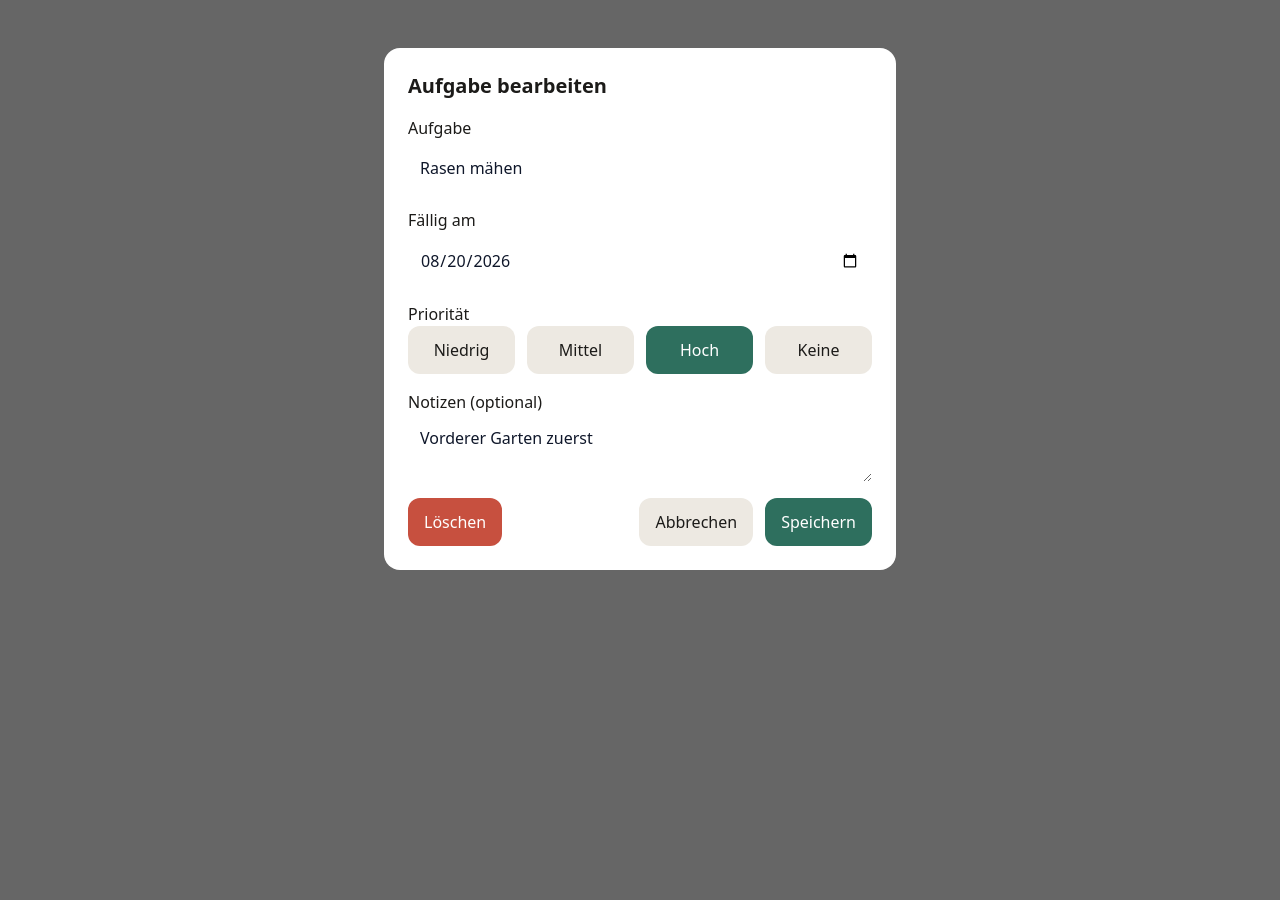
Scenario: TaskDialog (edit) › shows an error message when deleting fails
The image size is (1280, 900).
What coordinates should you click on to do the following:
click the button "Löschen"
I would click on:
 (455, 522)
Its box is [408,498,502,546].
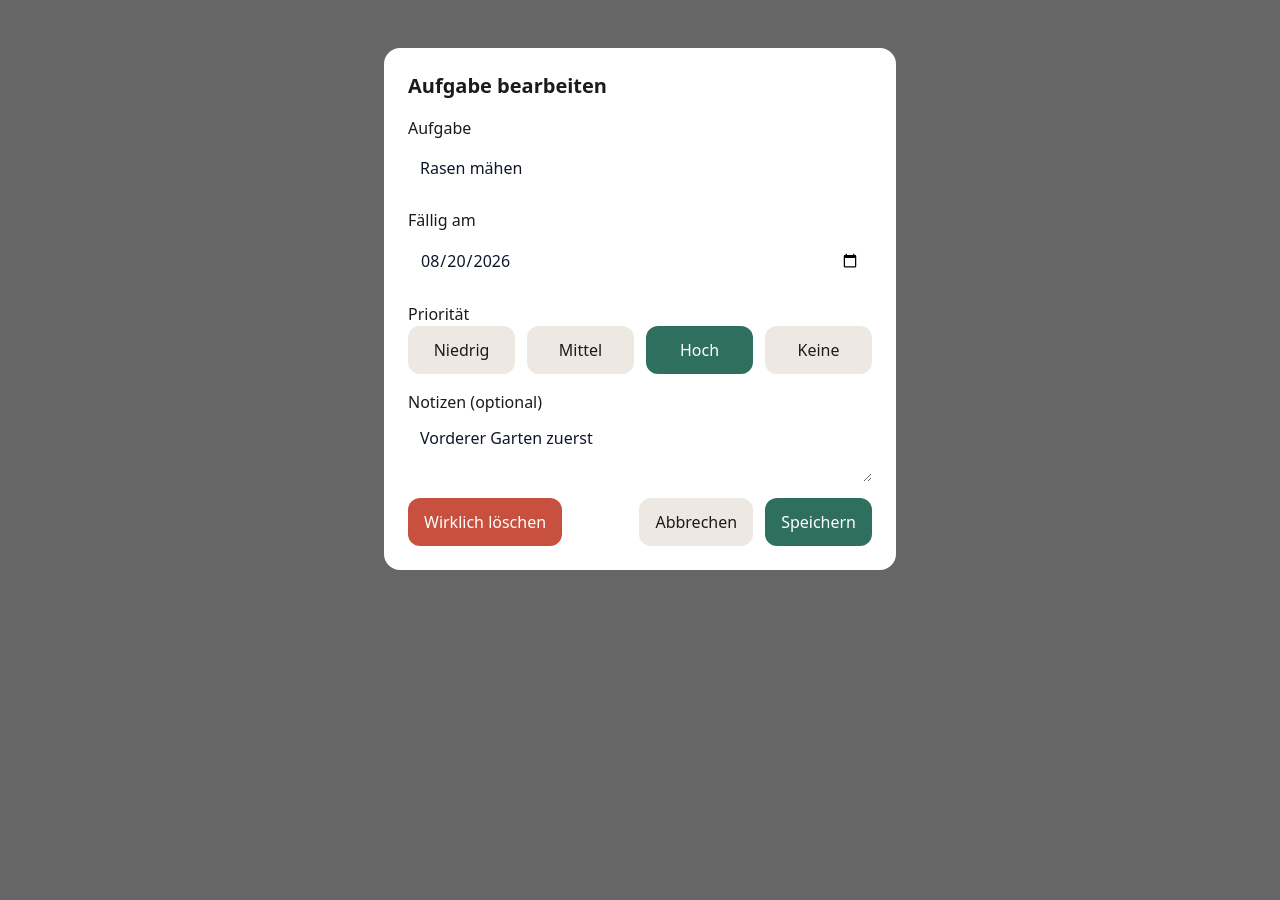
What coordinates should you click on to do the following:
click the button "Wirklich löschen"
I would click on:
 (485, 522)
Its box is [408,498,562,546].
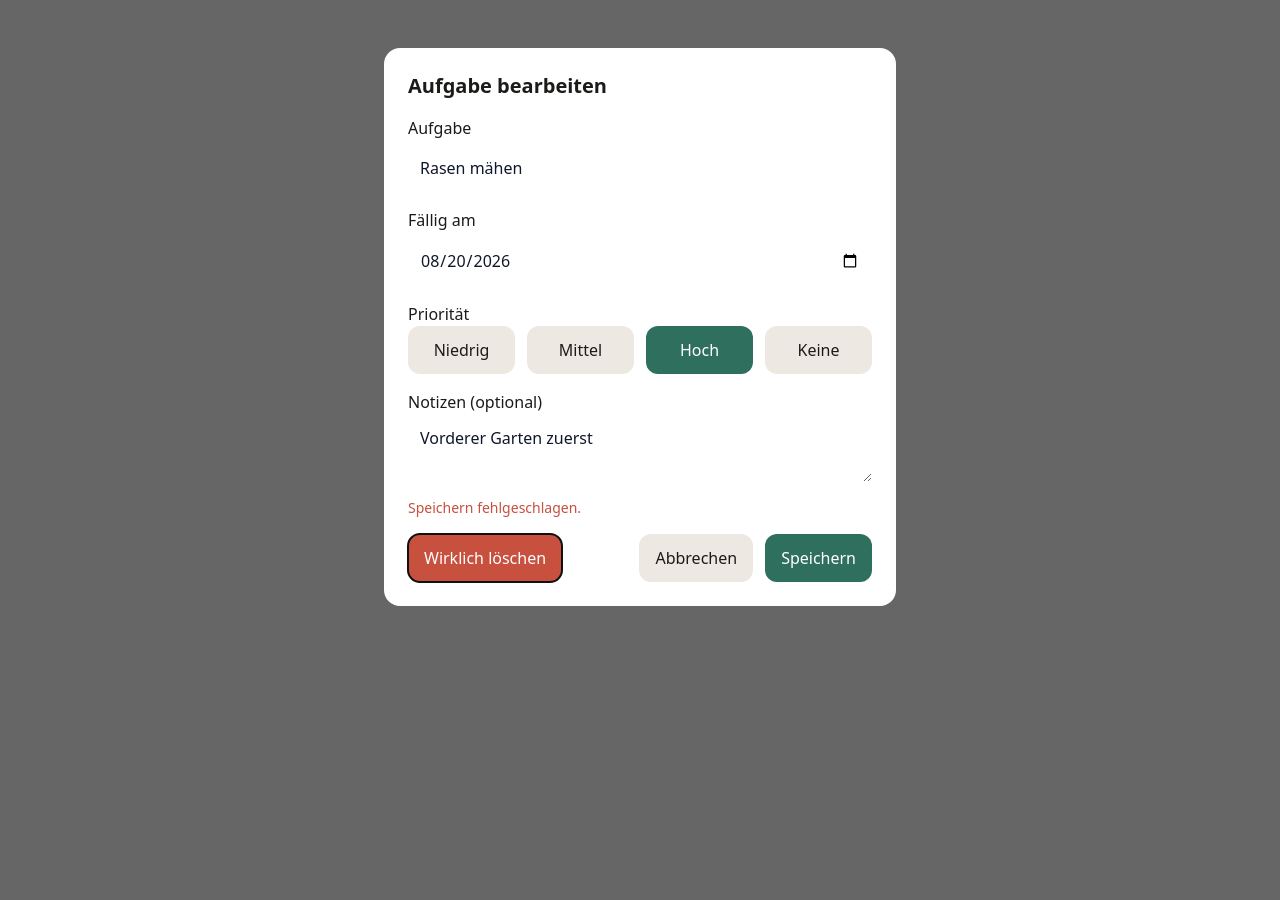
expect the text "Speichern fehlgeschlagen." is shown: met, box [408,498,581,517]
